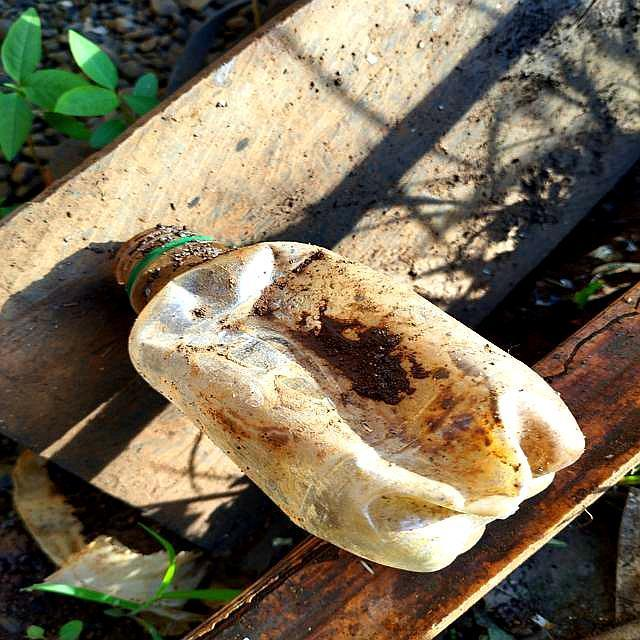Non-biodegradable: (107, 223, 579, 585)
